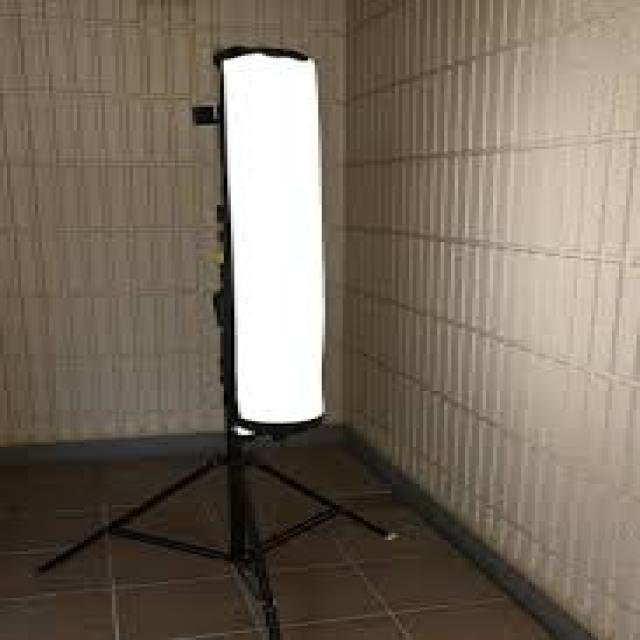tubelight_on: (213, 45, 327, 431)
